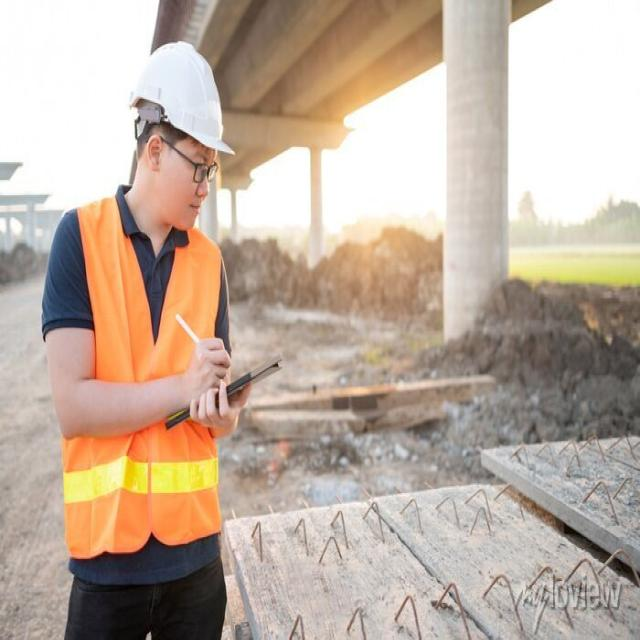helmet: (125, 38, 235, 171)
vest: (56, 234, 225, 556)
